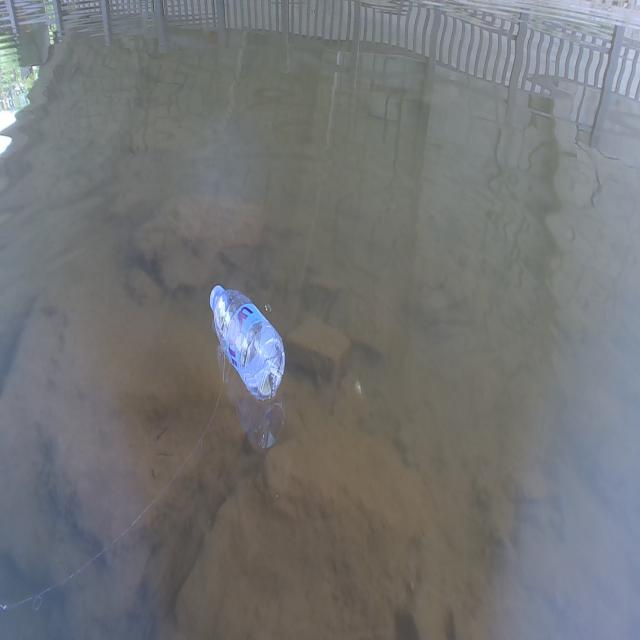Bottle: (206, 279, 286, 401)
